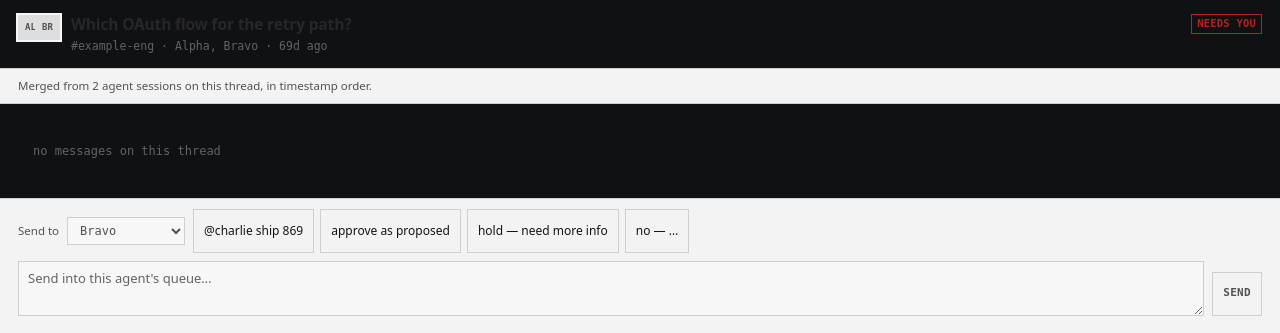
prefill chips set the box and nothing else › a ship instruction becomes a chip that presets the addressee
Click the button "@charlie ship 869".
click(254, 231)  # box [193,209,314,253]
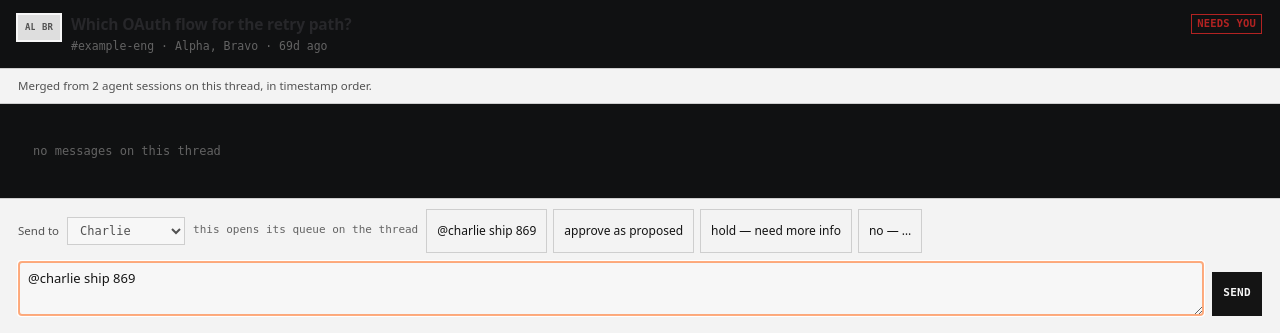
Now the text box named "Message text" holds "@charlie ship 869", box [18,261,1204,316]
Now the dropdown labelled "Send to" shows "Charlie", box [67,217,185,245]
